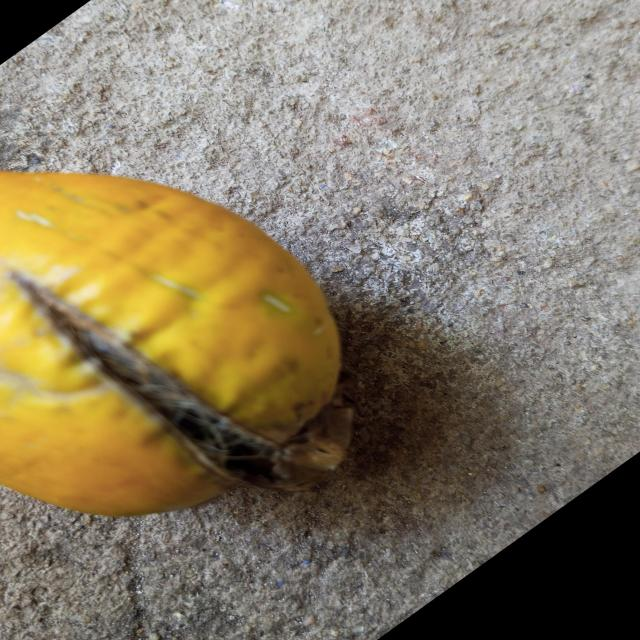damaged: (0, 171, 351, 520)
